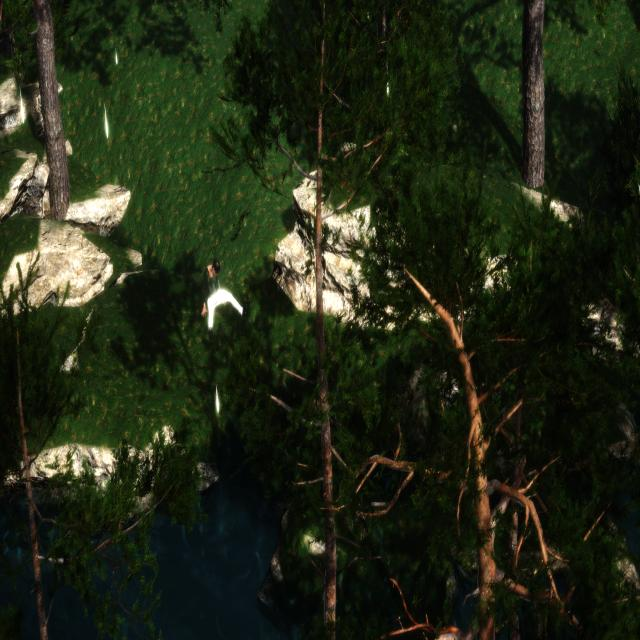Human: (199, 257, 247, 342)
